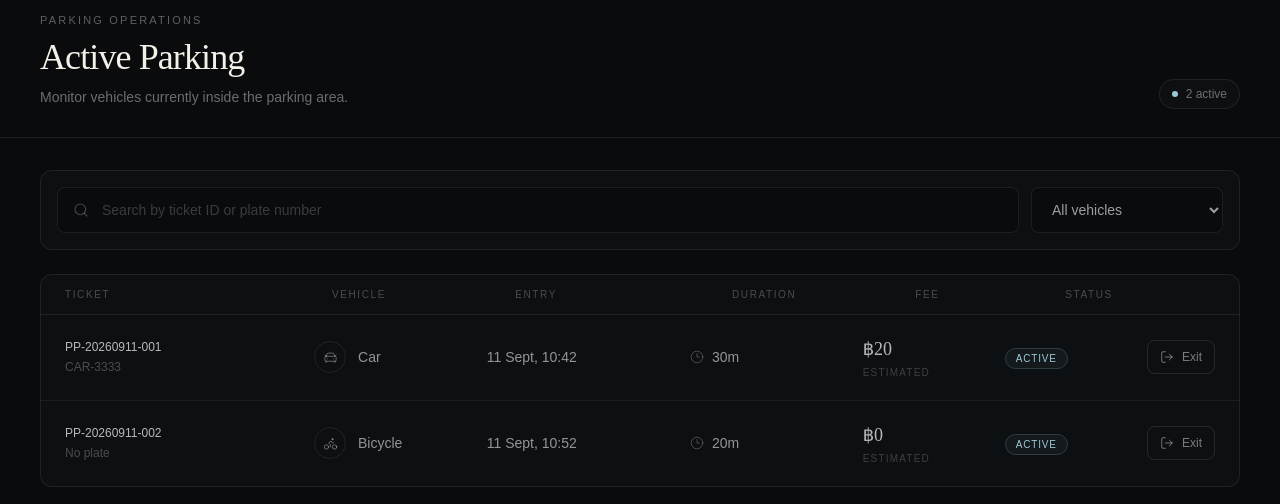
Test: Active Parking page › filters active parking by vehicle type
The image size is (1280, 504).
Check: the text "PP-20260911-001" is shown, box [65,340,162,354]
Select "Bicycle" in the dropdown at (1127, 210), box [1031,186,1223,232]
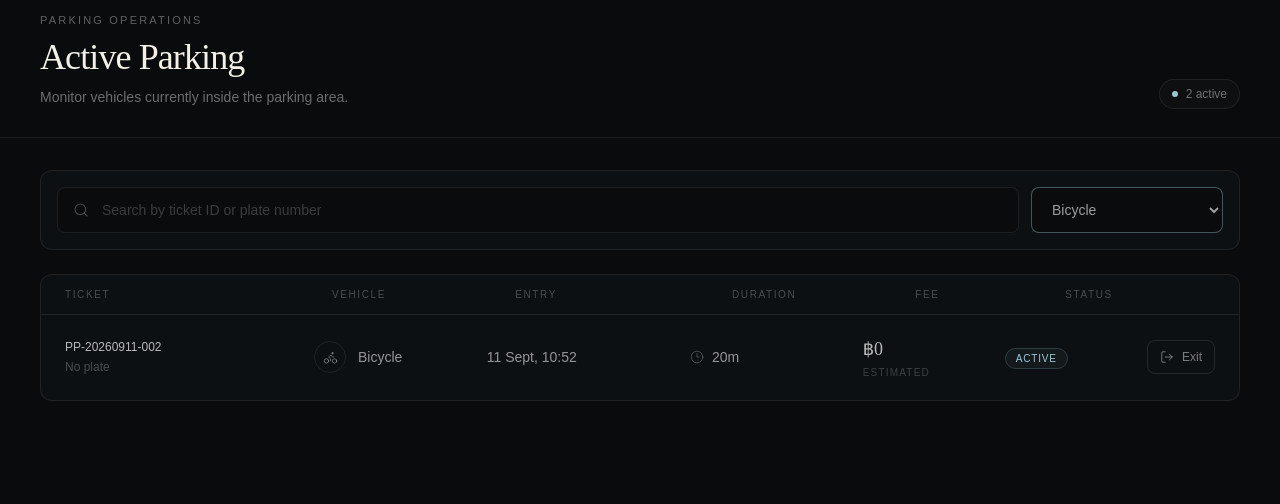
Check: the text "PP-20260911-001" is gone
